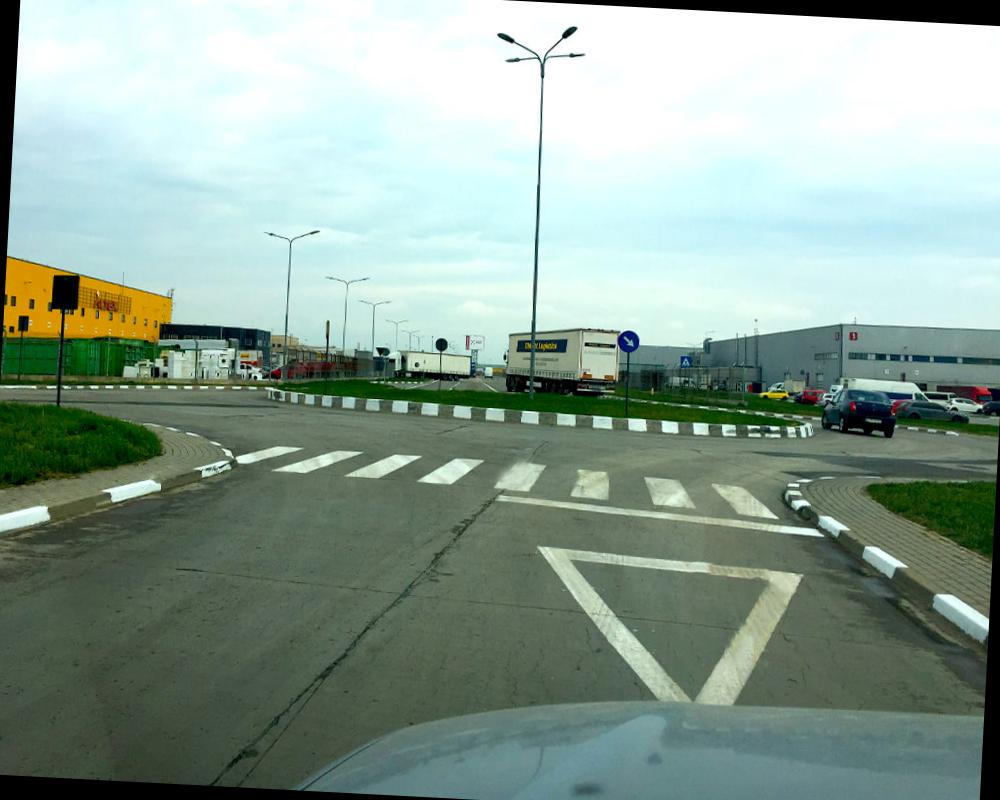faded_road_lines: (527, 545, 812, 714), (489, 456, 822, 546)
